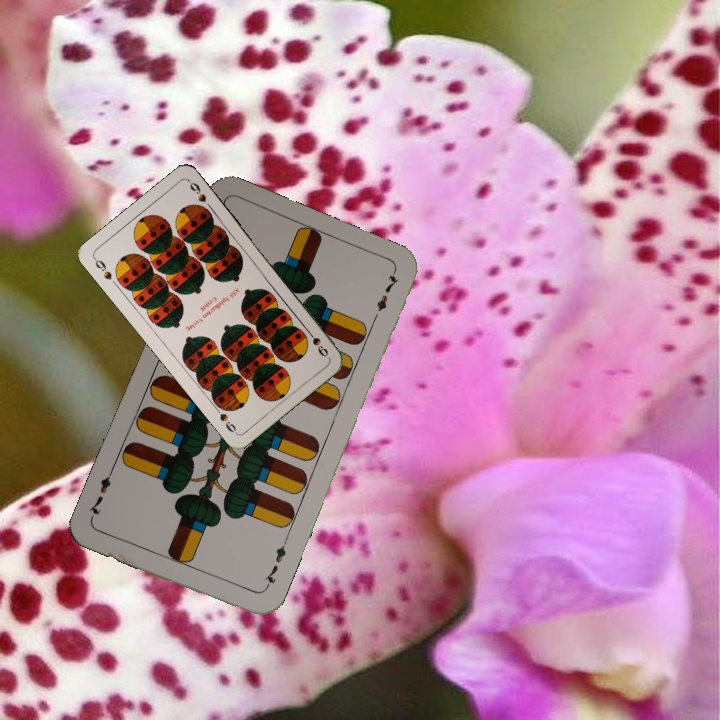E7: (259, 537, 290, 594)
S9: (302, 325, 331, 360), (90, 254, 115, 282)
